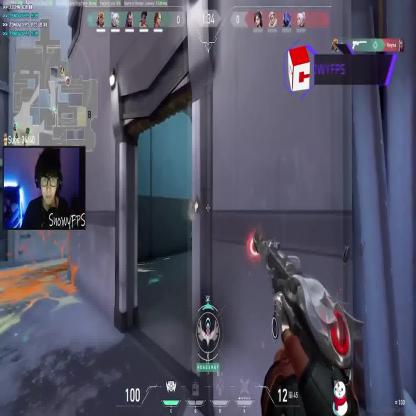enemy: (190, 199, 202, 245)
